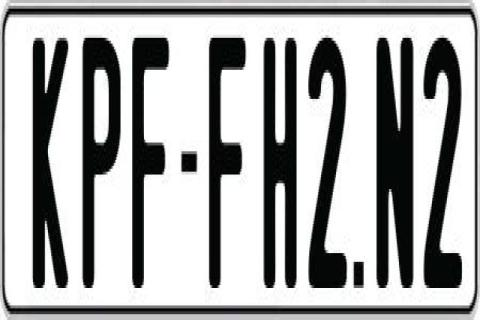0: (308, 35, 352, 285), (424, 32, 464, 300)
F: (207, 38, 248, 302), (132, 35, 170, 285)
H: (264, 38, 297, 291)
K: (32, 35, 70, 288)
N: (376, 35, 414, 297)
P: (83, 35, 123, 294)
